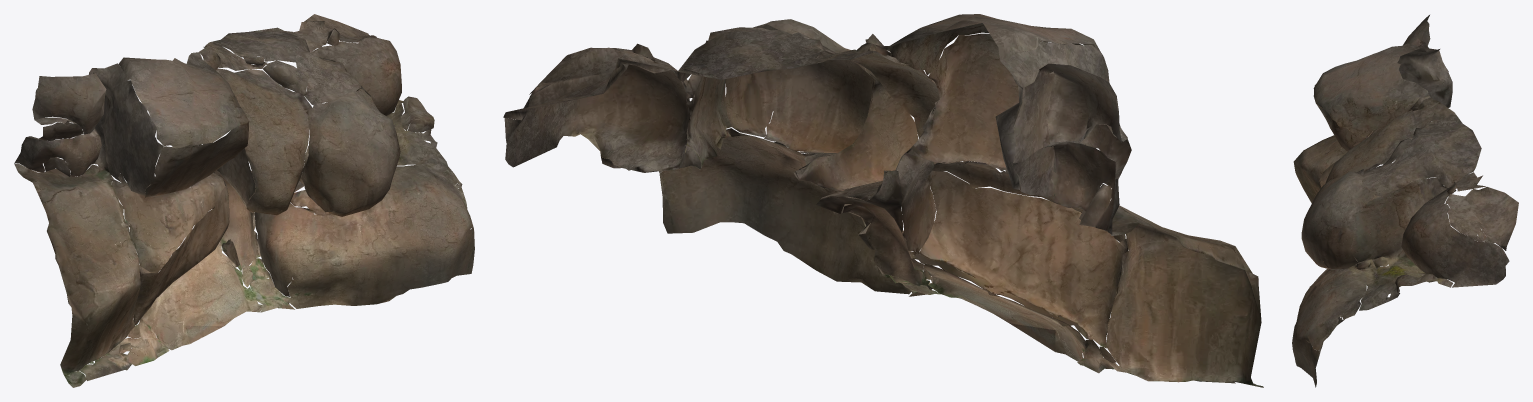
The model's file is ph_namaqualand_cliff_01_hi.glb.
3 views of the same model, side by side, from view 1: azimuth 30°, elevation 25°; view 2: azimuth 150°, elevation 25°; view 3: azimuth 270°, elevation 25° (orthographic). The views are drawn at different scales.
Parts seen in each view (by area): view 1: drone_rock_01; view 2: drone_rock_01; view 3: drone_rock_01.
Part boxes in pixels (<box>): drone_rock_01: <box>14,14,474,387</box>; drone_rock_01: <box>503,14,1263,387</box>; drone_rock_01: <box>1292,15,1518,387</box>.
Size of the model in its own units: 8.27 by 4.95 by 4.38.
1 material, 1 textured.
